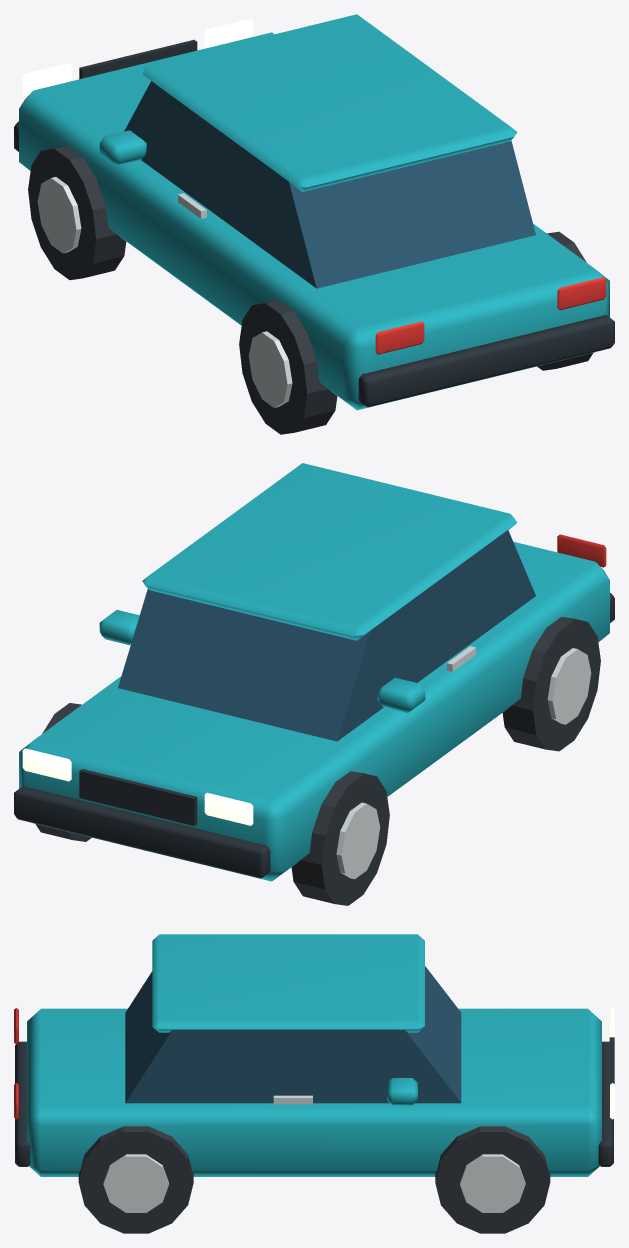
Rendered from car_compact.glb.
3 renders of one model, top to bottom at view 1: azimuth 30°, elevation 25°; view 2: azimuth 150°, elevation 25°; view 3: azimuth 270°, elevation 25°, orthographic. The views are drawn at different scales.
Visible parts, largest first — view 1: car_compact_lower, car_compact_roof, car_compact_glasshouse, car_compact_rear_bumper, car_compact_tire, car_compact_tire.001, car_compact_hub, car_compact_hub.001, car_compact_grille, car_compact_mirror, car_compact_taillamp, car_compact_taillamp.001 (+3 smaller); view 2: car_compact_lower, car_compact_glasshouse, car_compact_roof, car_compact_front_bumper, car_compact_tire.001, car_compact_tire, car_compact_grille, car_compact_hub.001, car_compact_hub, car_compact_mirror, car_compact_headlamp.001, car_compact_headlamp (+3 smaller); view 3: car_compact_lower, car_compact_glasshouse, car_compact_roof, car_compact_tire.002, car_compact_tire.003, car_compact_hub.002, car_compact_hub.003, car_compact_rear_bumper, car_compact_front_bumper, car_compact_mirror.001.
Boxes of the visible parts, x1,y1,x2,y2 form: car_compact_lower: (19,32,609,410); car_compact_roof: (142,14,517,191); car_compact_glasshouse: (124,81,535,288); car_compact_rear_bumper: (358,314,614,407); car_compact_tire: (239,300,337,434); car_compact_tire.001: (28,145,126,279); car_compact_hub: (248,331,292,407); car_compact_hub.001: (37,177,81,253); car_compact_grille: (79,39,197,79); car_compact_mirror: (99,130,146,165); car_compact_taillamp: (375,321,424,354); car_compact_taillamp.001: (557,277,606,310); car_compact_lower: (19,541,609,881); car_compact_glasshouse: (118,530,535,741); car_compact_roof: (142,463,516,640); car_compact_front_bumper: (14,786,270,878); car_compact_tire.001: (291,771,389,905); car_compact_tire: (502,617,600,751); car_compact_grille: (79,769,197,825); car_compact_hub.001: (336,802,380,879); car_compact_hub: (547,648,591,724); car_compact_mirror: (377,677,425,712); car_compact_headlamp.001: (22,748,71,781); car_compact_headlamp: (204,792,253,825); car_compact_lower: (27,1008,601,1176); car_compact_glasshouse: (125,966,461,1103); car_compact_roof: (152,934,424,1032); car_compact_tire.002: (78,1126,193,1233); car_compact_tire.003: (435,1126,550,1233); car_compact_hub.002: (103,1154,168,1212); car_compact_hub.003: (460,1154,525,1212); car_compact_rear_bumper: (15,1041,30,1166); car_compact_front_bumper: (598,1041,613,1166); car_compact_mirror.001: (387,1078,417,1105).
Bounding box in the file's own units: 2.18 × 1.54 × 4.29.
